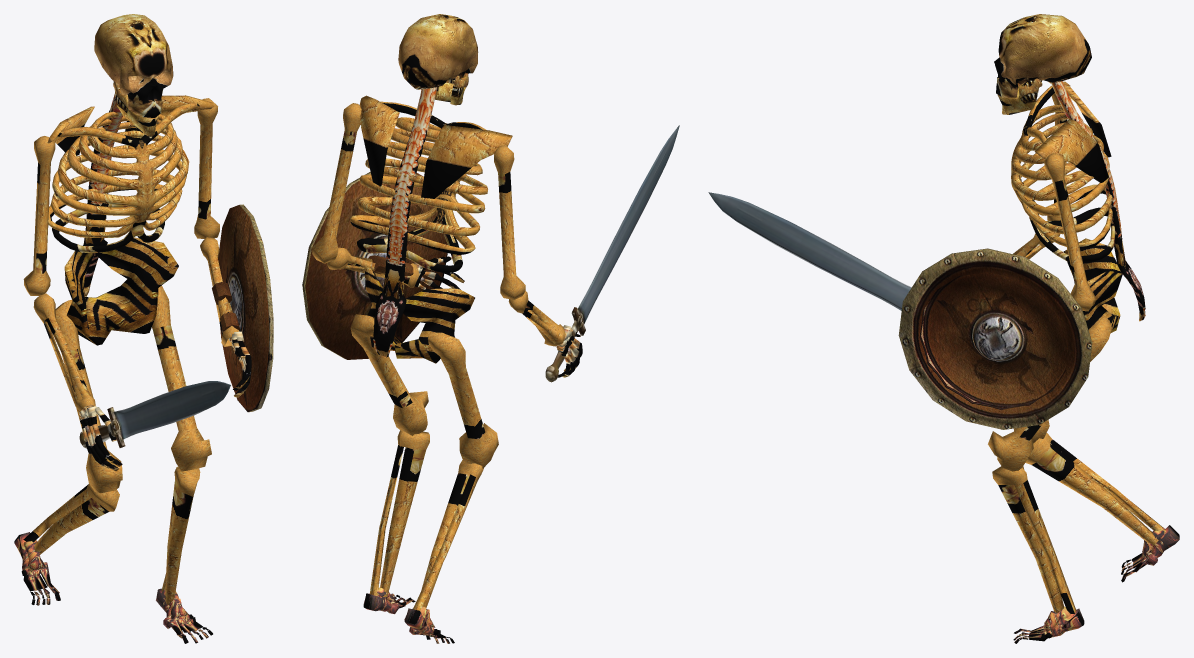
Rendered from Skeleton_000008.obj.
The picture shows the model from 3 angles, left to right: view 1: azimuth 30°, elevation 25°; view 2: azimuth 150°, elevation 25°; view 3: azimuth 270°, elevation 25°; orthographic projection. The views are drawn at different scales.
Visible parts, largest first — view 1: Costillar, Shield_Shield.001, Coxis, Skull, Femur, Tibia, Humero, Sword, Radio, Feet, Hands, Omoplato (+1 smaller); view 2: Costillar, Shield_Shield.001, Tibia, Femur, Omoplato, Skull, Humero, Coxis, Sword, Radio, Feet, Hands (+1 smaller); view 3: Shield_Shield.001, Costillar, Tibia, Skull, Sword, Omoplato, Humero, Feet, Coxis, Femur, Mandibula.
Boxes of the visible parts, bbox=[...] form: Costillar: bbox=[48, 93, 199, 296]; Shield_Shield.001: bbox=[212, 204, 273, 412]; Coxis: bbox=[64, 237, 178, 345]; Skull: bbox=[94, 14, 173, 117]; Femur: bbox=[55, 285, 211, 493]; Tibia: bbox=[23, 466, 200, 604]; Humero: bbox=[23, 98, 219, 295]; Sword: bbox=[79, 381, 230, 448]; Radio: bbox=[33, 237, 239, 411]; Feet: bbox=[14, 532, 212, 643]; Hands: bbox=[79, 331, 251, 471]; Omoplato: bbox=[47, 95, 214, 155]; Costillar: bbox=[350, 87, 487, 357]; Shield_Shield.001: bbox=[302, 167, 447, 359]; Tibia: bbox=[369, 430, 483, 610]; Femur: bbox=[350, 314, 498, 468]; Omoplato: bbox=[359, 95, 512, 198]; Skull: bbox=[398, 14, 478, 89]; Humero: bbox=[312, 103, 525, 299]; Coxis: bbox=[364, 266, 474, 363]; Sword: bbox=[545, 125, 679, 382]; Radio: bbox=[327, 247, 565, 346]; Feet: bbox=[363, 587, 454, 643]; Hands: bbox=[414, 256, 582, 377]; Shield_Shield.001: bbox=[898, 248, 1092, 429]; Costillar: bbox=[1011, 81, 1145, 321]; Tibia: bbox=[992, 433, 1165, 613]; Skull: bbox=[994, 14, 1091, 97]; Sword: bbox=[708, 192, 911, 310]; Omoplato: bbox=[1034, 81, 1111, 182]; Humero: bbox=[1044, 81, 1096, 311]; Feet: bbox=[1013, 525, 1179, 643]; Coxis: bbox=[1063, 238, 1122, 333]; Femur: bbox=[988, 317, 1111, 471]; Mandibula: bbox=[997, 78, 1042, 114].
Bounding box in the file's own units: 3.02 × 8.51 × 6.06.
Materials: 5 (5 with a texture image).
